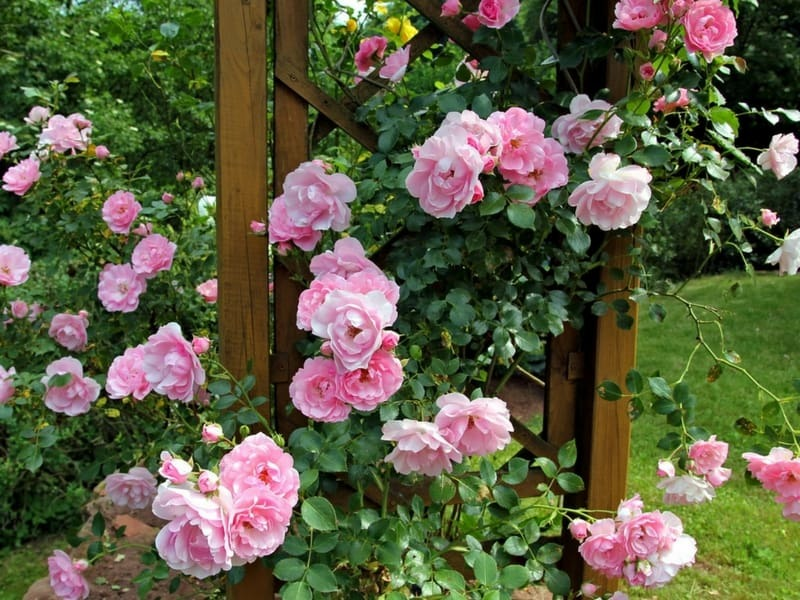Rose: (579, 151, 645, 226), (159, 517, 235, 578), (414, 140, 474, 212), (225, 435, 293, 498), (321, 297, 387, 360), (440, 393, 508, 454), (286, 168, 351, 225), (228, 492, 284, 556), (343, 353, 404, 410), (149, 325, 201, 391), (490, 110, 548, 168), (290, 361, 346, 420), (552, 97, 615, 144), (41, 361, 89, 409), (623, 512, 676, 555), (687, 4, 734, 50), (49, 551, 88, 600), (103, 264, 139, 312), (613, 0, 664, 28), (763, 135, 798, 174), (53, 311, 85, 353), (101, 195, 141, 225), (133, 236, 170, 267)
